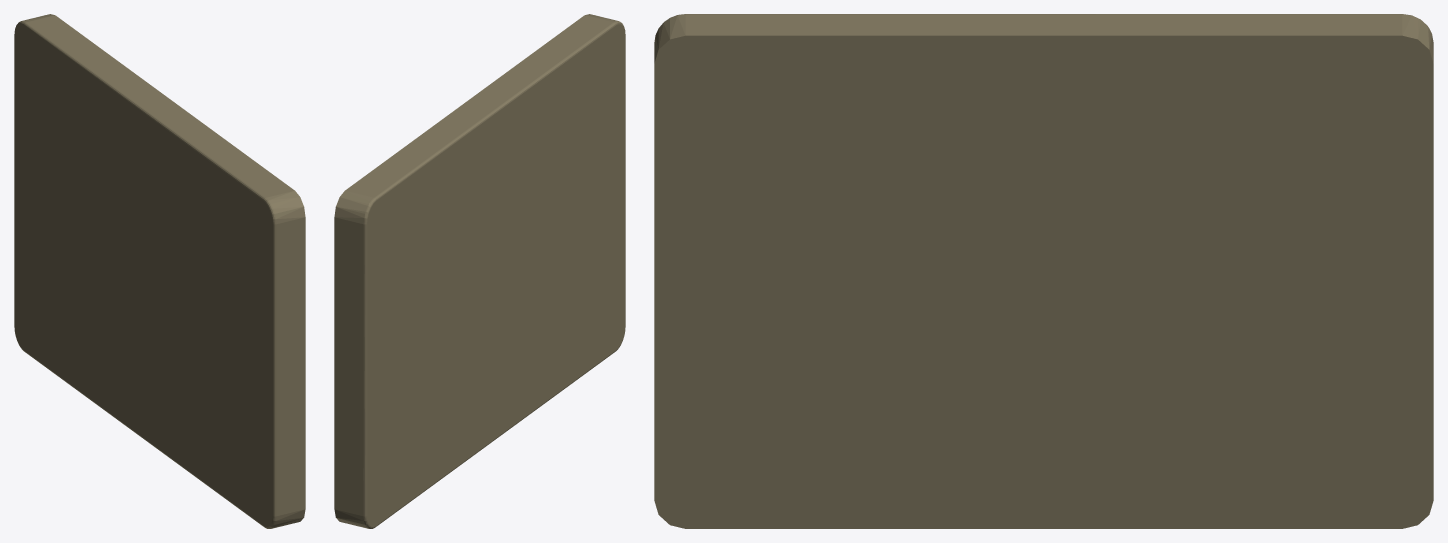
File: SSD_7mm.glb
3 renders of one model, left to right at view 1: azimuth 30°, elevation 25°; view 2: azimuth 150°, elevation 25°; view 3: azimuth 270°, elevation 25°, orthographic. The views are drawn at different scales.
Parts seen in each view (by area): view 1: HL15 Beast REV1 - F8X_ROW_1_DRIVE_CAGE_ASSEMBLY _1_-1 SSD_B.; view 2: HL15 Beast REV1 - F8X_ROW_1_DRIVE_CAGE_ASSEMBLY _1_-1 SSD_B.; view 3: HL15 Beast REV1 - F8X_ROW_1_DRIVE_CAGE_ASSEMBLY _1_-1 SSD_B..
Boxes of the visible parts, x1,y1,x2,y2 form: HL15 Beast REV1 - F8X_ROW_1_DRIVE_CAGE_ASSEMBLY _1_-1 SSD_B.: [14, 14, 305, 528]; HL15 Beast REV1 - F8X_ROW_1_DRIVE_CAGE_ASSEMBLY _1_-1 SSD_B.: [334, 14, 625, 528]; HL15 Beast REV1 - F8X_ROW_1_DRIVE_CAGE_ASSEMBLY _1_-1 SSD_B.: [654, 14, 1433, 528].
Size of the model in its own units: 0.007 by 0.0699 by 0.1.
